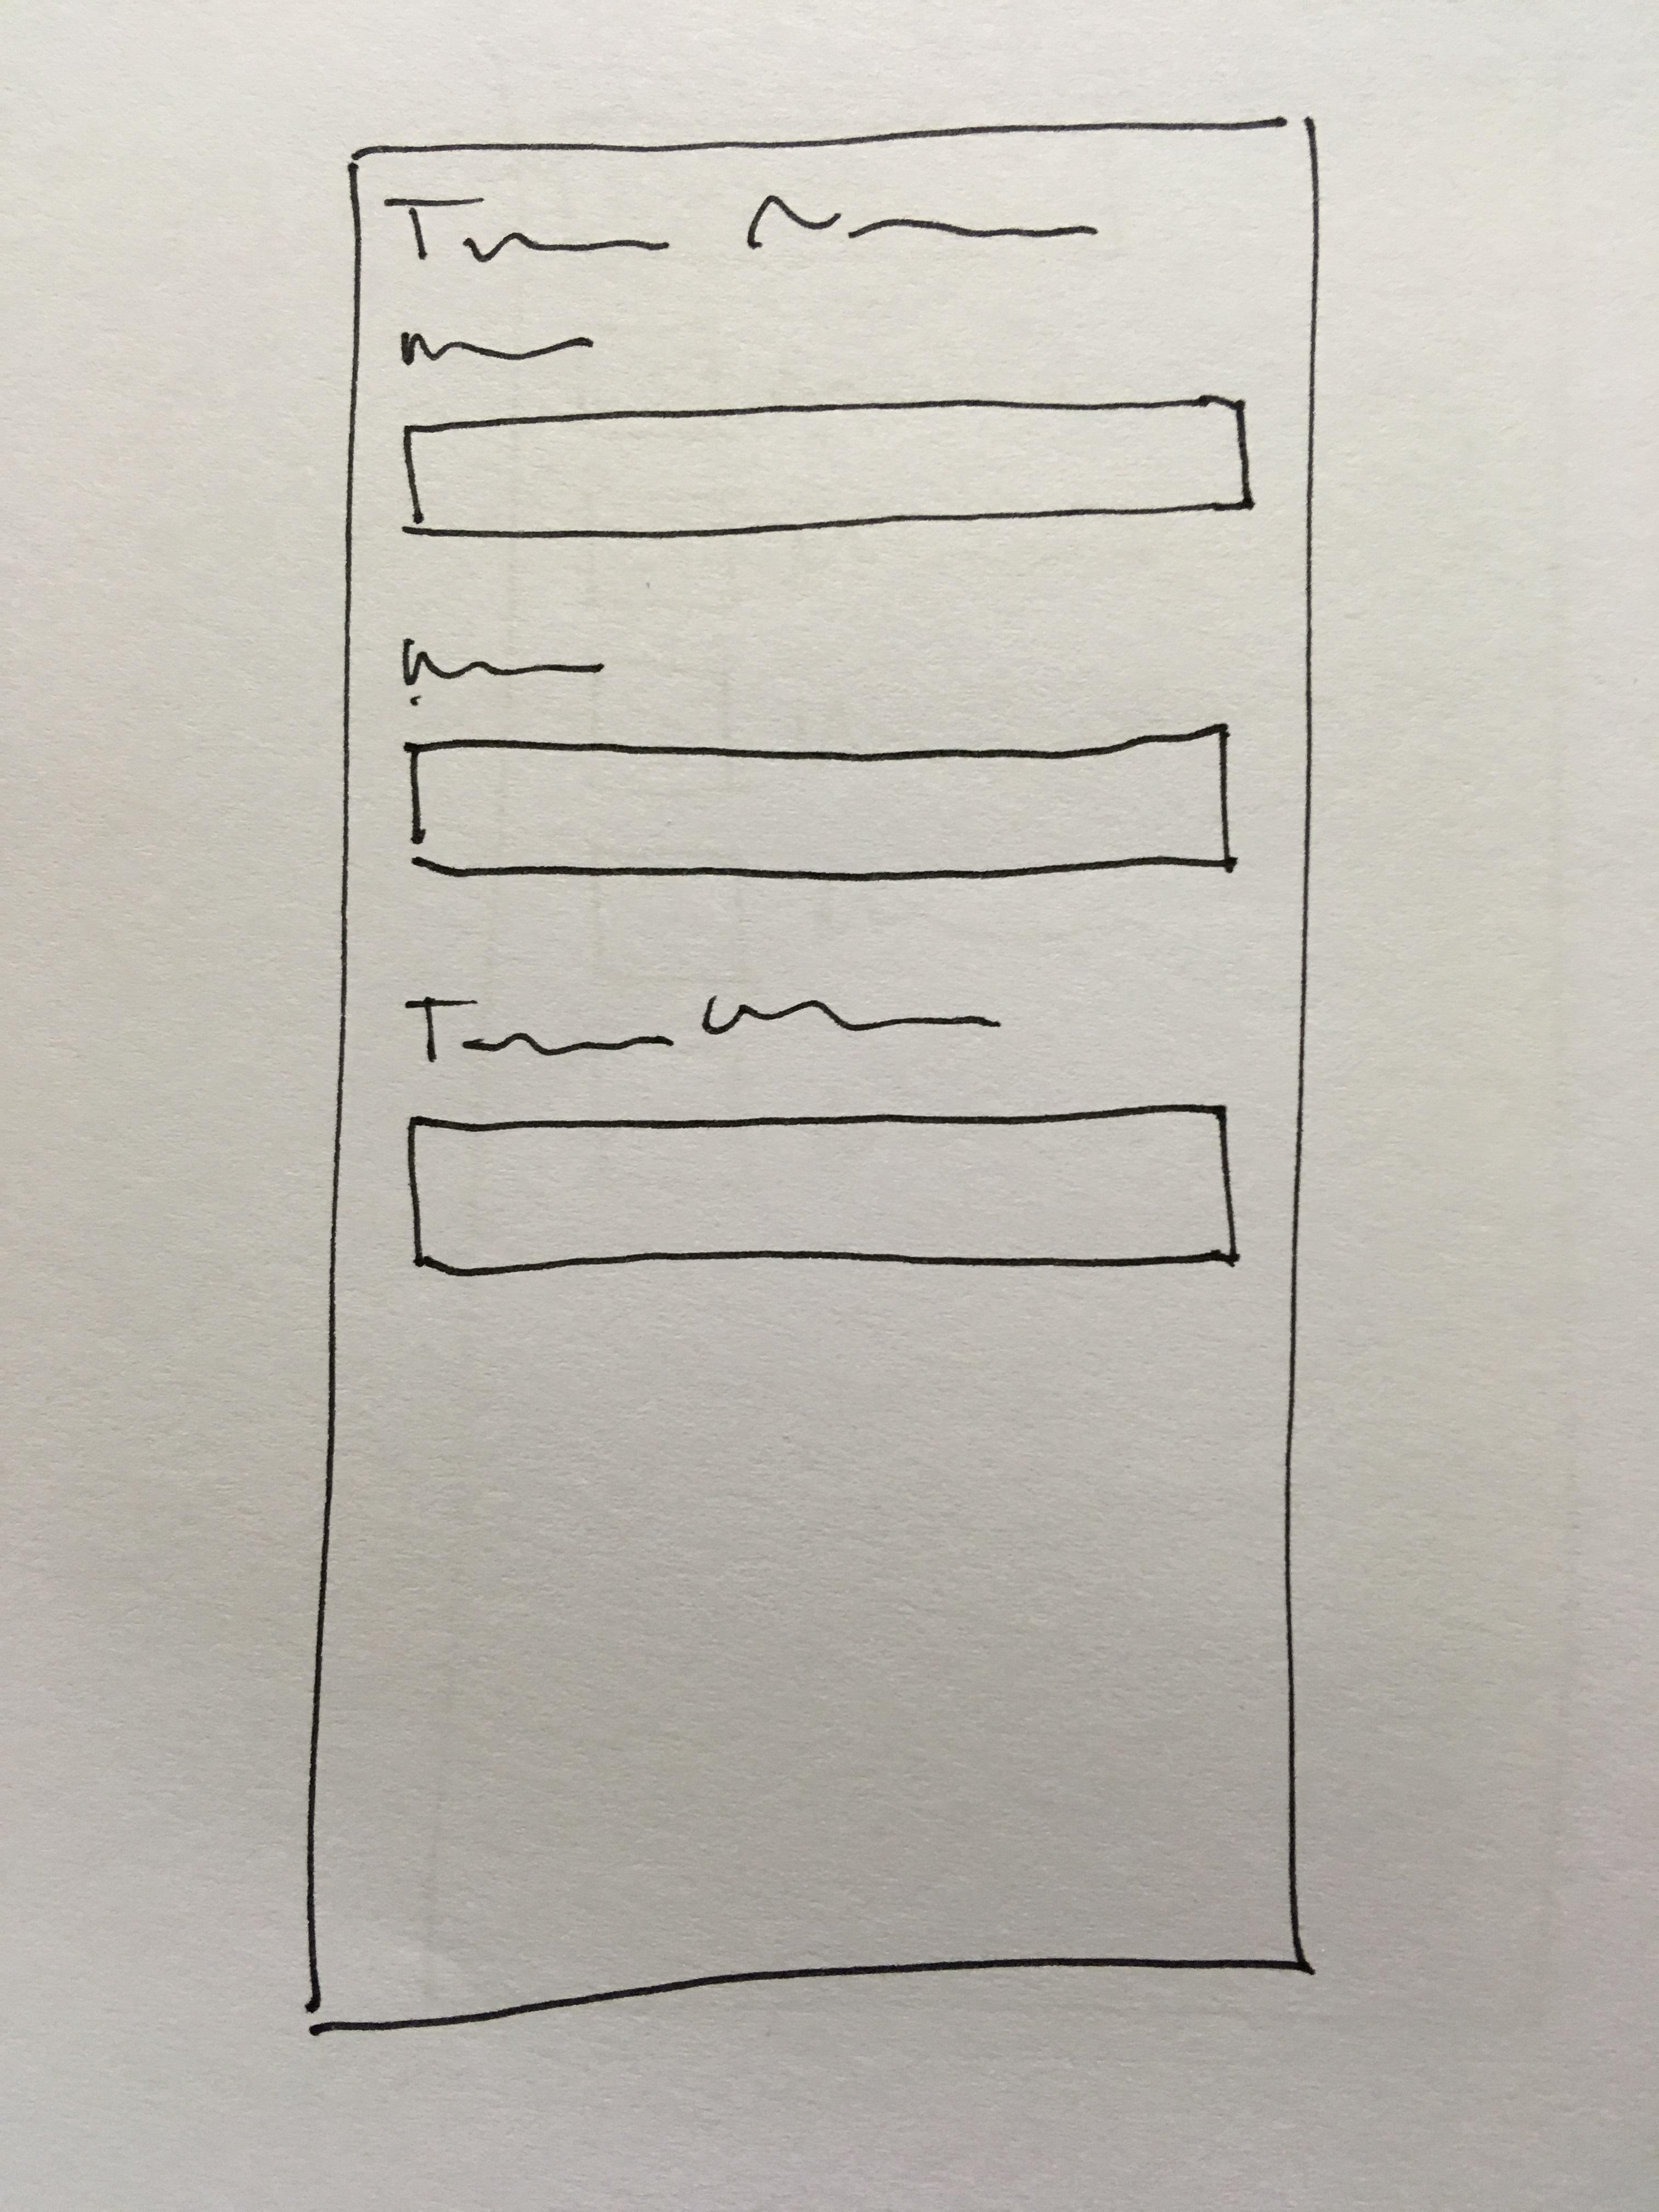Label: (387, 176, 1114, 286), (401, 982, 1007, 1068), (396, 320, 610, 380), (399, 639, 606, 693)
Screen: (298, 117, 1319, 2038)
TextBox: (406, 1104, 1243, 1275), (406, 723, 1237, 880), (401, 394, 1251, 543)
